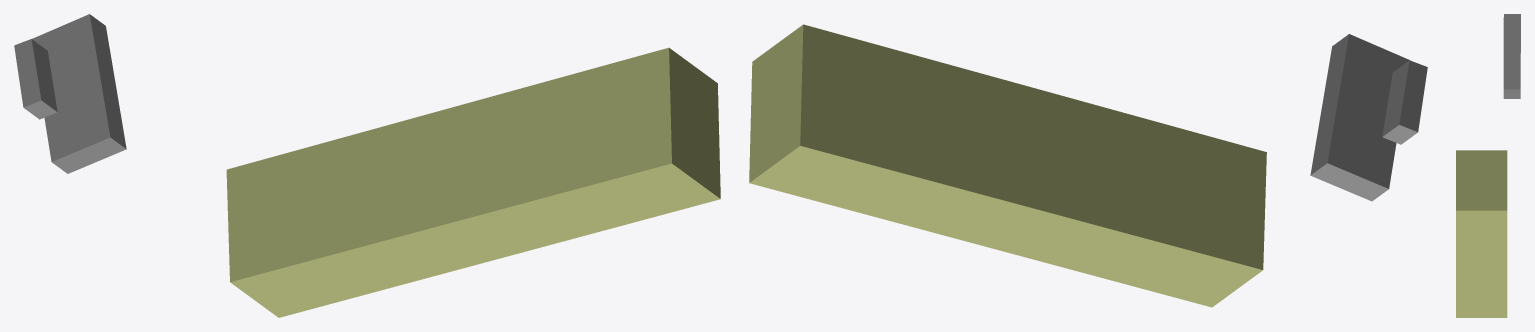
3 views of the same model, side by side, from view 1: azimuth 30°, elevation 25°; view 2: azimuth 150°, elevation 25°; view 3: azimuth 270°, elevation 25° (orthographic). The views are drawn at different scales.
Visible parts, largest first — view 1: 0_1_2_0_3_1_2_1; view 2: 0_1_2_0_3_1_2_1; view 3: 0_1_2_0_3_1_2_1.
Boxes of the visible parts, bbox=[...] form: 0_1_2_0_3_1_2_1: bbox=[14, 14, 720, 317]; 0_1_2_0_3_1_2_1: bbox=[749, 24, 1427, 307]; 0_1_2_0_3_1_2_1: bbox=[1456, 14, 1520, 317].
Size of the model in its own units: 68.67 by 29.51 by 11.42.
